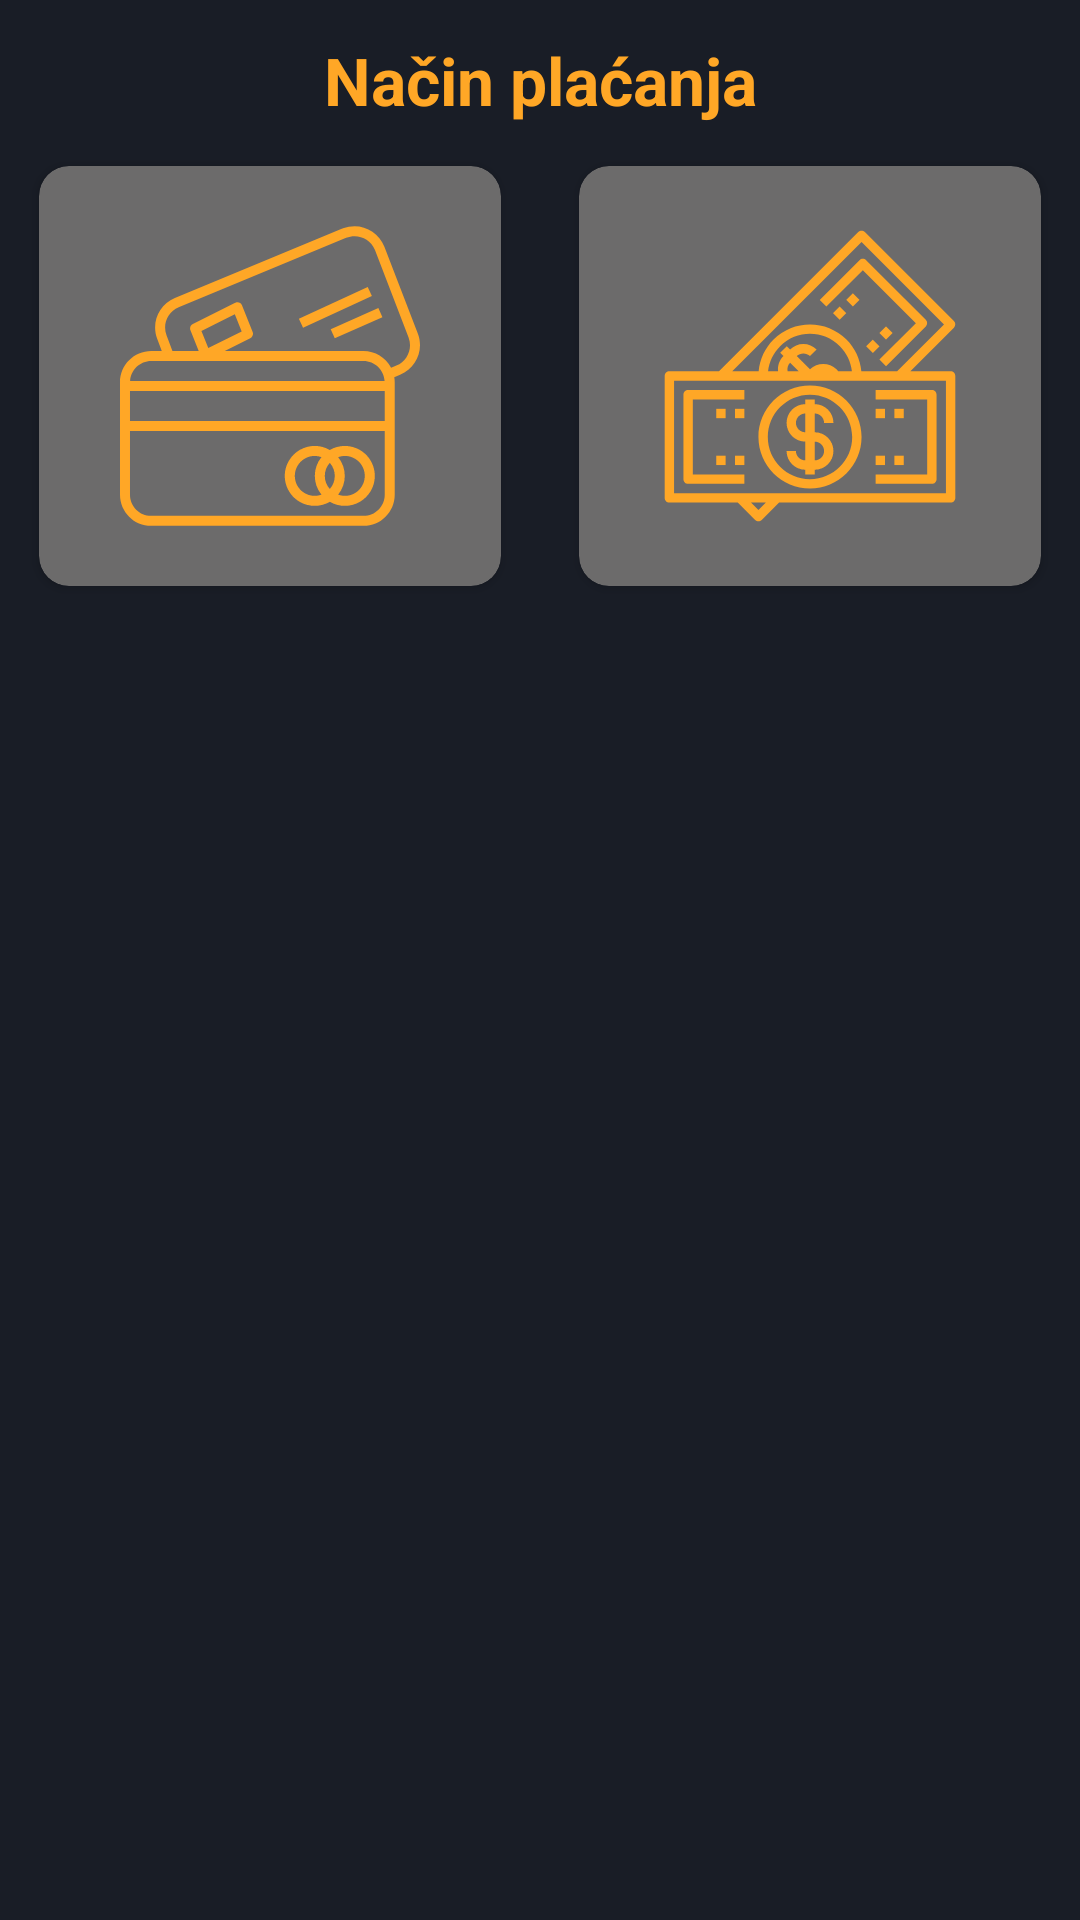

Icons on this 1080 × 1920 Android screen, each with the point to tap as point (x, y):
credit card: point (270, 376)
money: point (810, 376)
